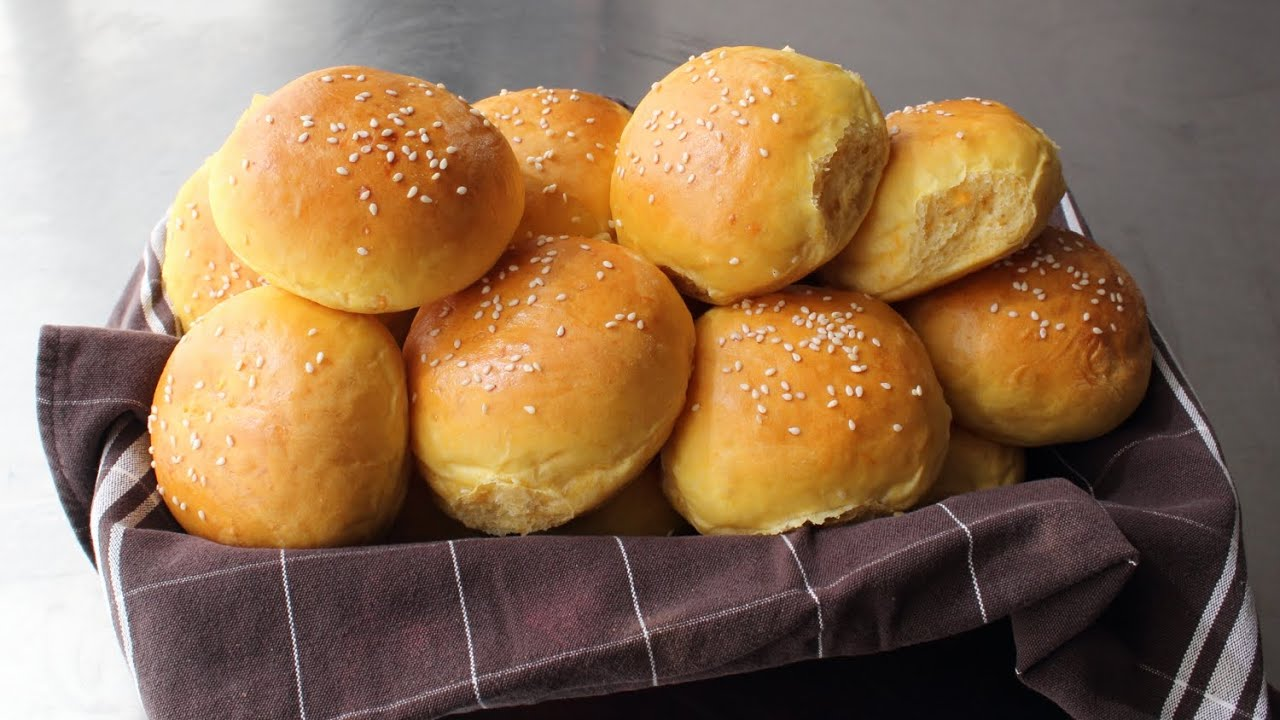hamburger_buns: (160, 281, 533, 584), (216, 53, 541, 332), (613, 39, 891, 285)
